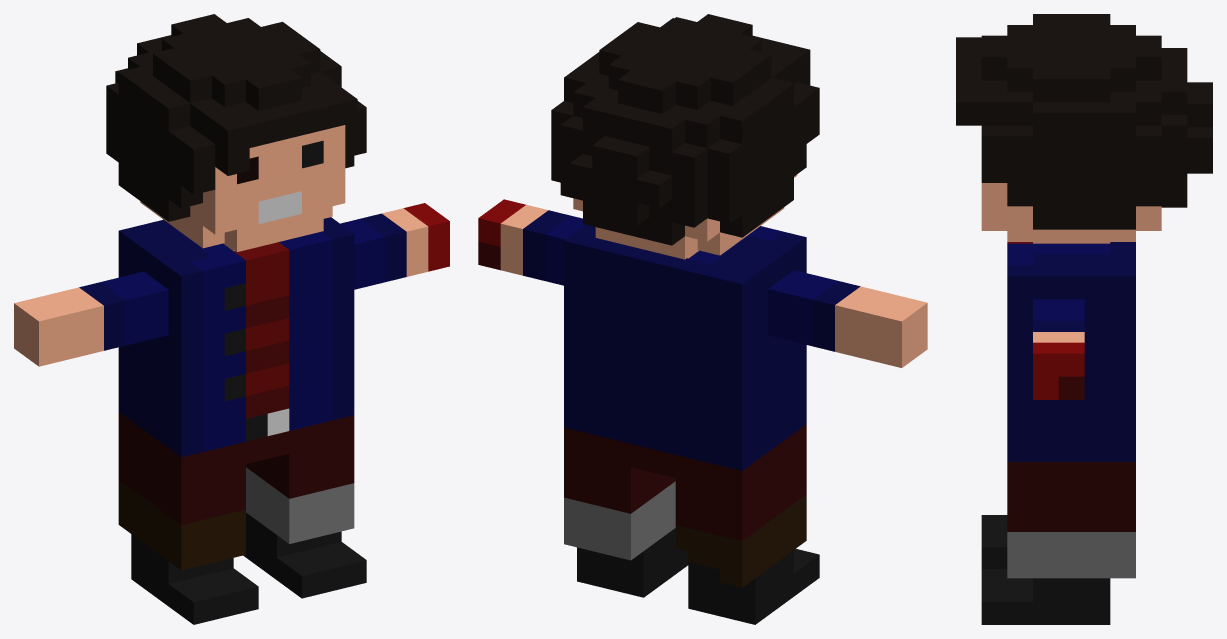
Rendered from Bleu-3.obj.
The picture shows the model from 3 angles, left to right: view 1: azimuth 30°, elevation 25°; view 2: azimuth 150°, elevation 25°; view 3: azimuth 270°, elevation 25°; orthographic projection. The views are drawn at different scales.
Bounding box in the file's own units: 1.9 × 2.3 × 1.
1 material, 1 textured.
